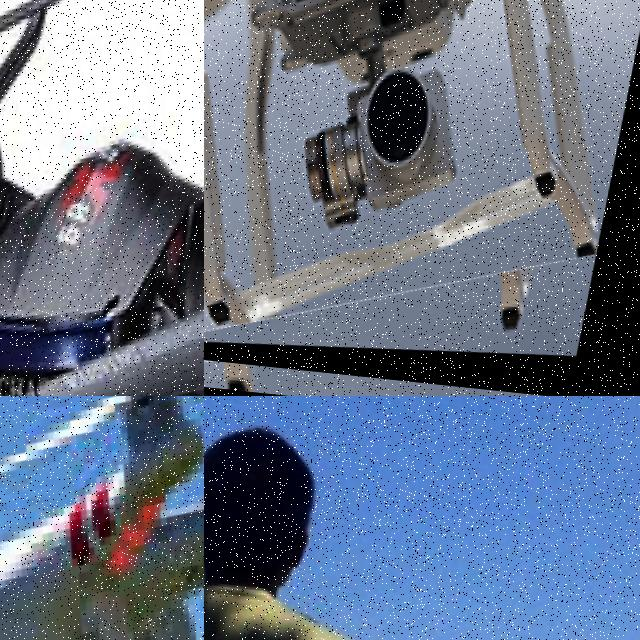0: (204, 0, 640, 396)
drone: (0, 0, 204, 396), (0, 396, 204, 640)
